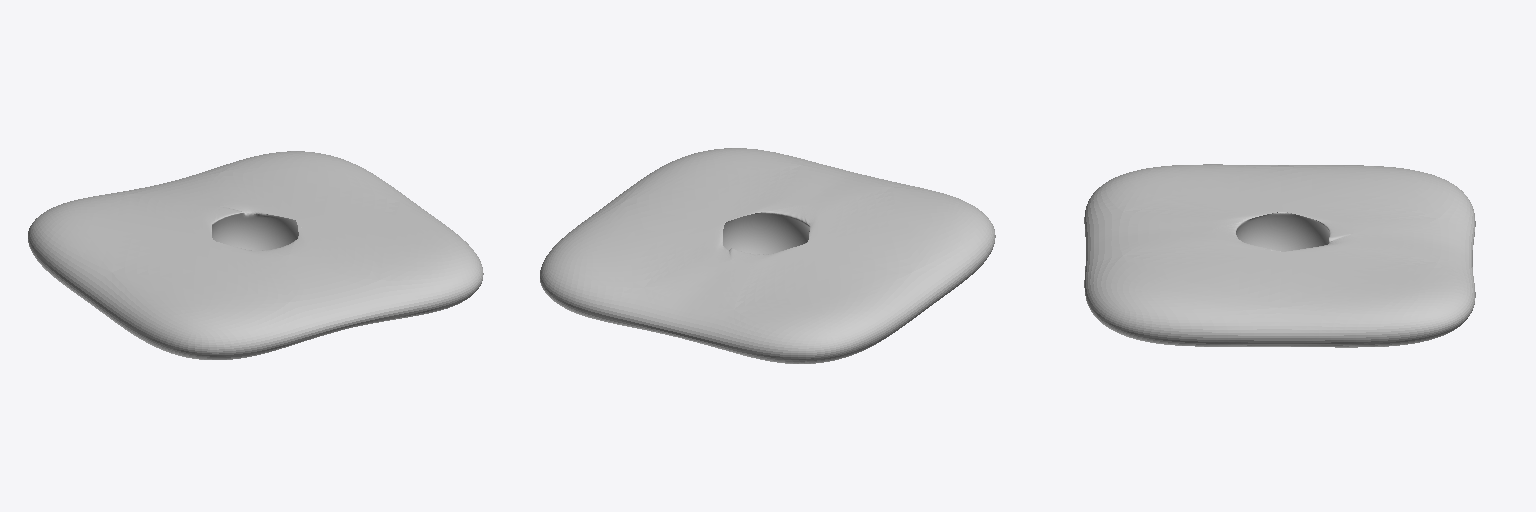
Rendered from cartoonBirdBottom.obj.
The picture shows the model from 3 angles: view 1: azimuth 30°, elevation 25°; view 2: azimuth 150°, elevation 25°; view 3: azimuth 270°, elevation 25°; orthographic projection.
Parts seen in each view (by area): view 1: PatenteBottom_Plane.001; view 2: PatenteBottom_Plane.001; view 3: PatenteBottom_Plane.001.
Part boxes in pixels (left/top/right/bottom): PatenteBottom_Plane.001: left=28, top=151, right=483, bottom=359; PatenteBottom_Plane.001: left=540, top=148, right=995, bottom=363; PatenteBottom_Plane.001: left=1084, top=164, right=1475, bottom=347.
Bounding box in the file's own units: 1.43 × 0.2116 × 1.44.